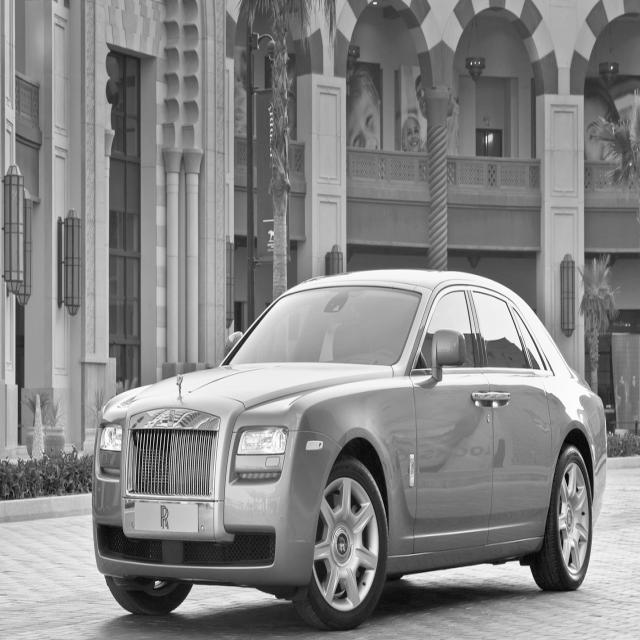car: (91, 268, 607, 632)
